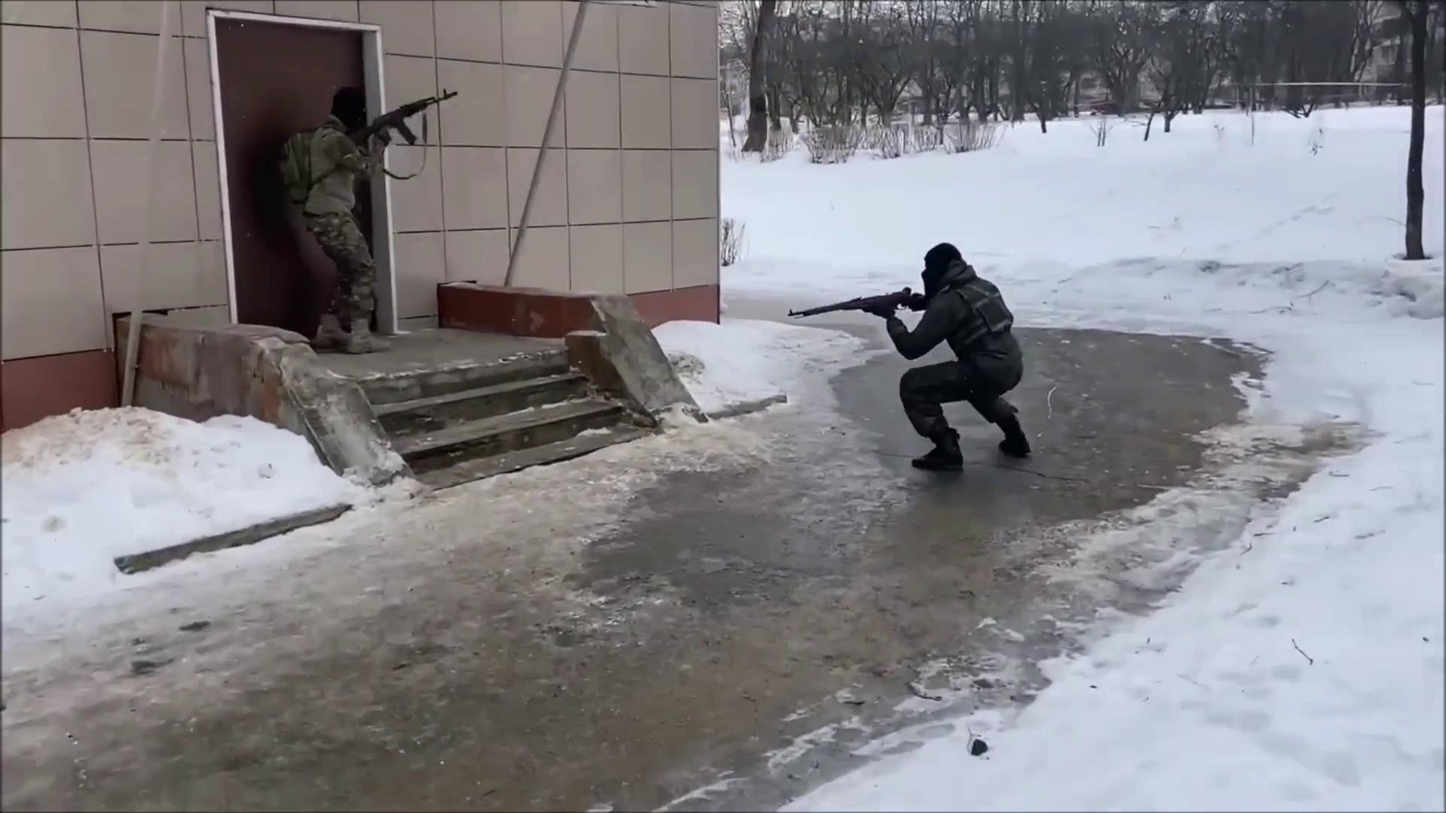person: (862, 240, 1034, 474), (277, 84, 397, 356)
rifle: (786, 285, 928, 323)
